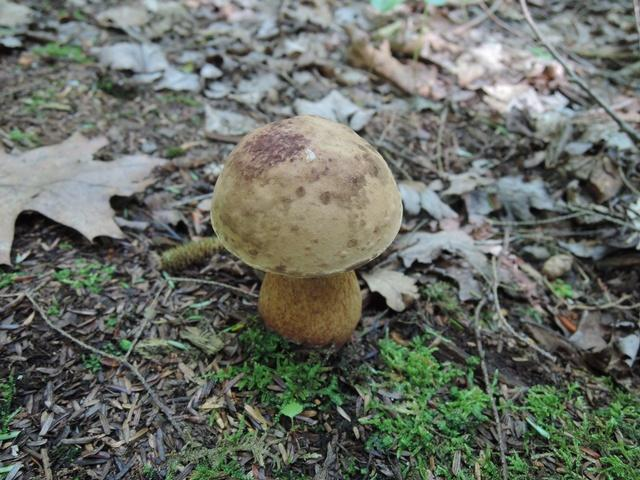Non-edible Mushroom: (209, 113, 404, 351)
